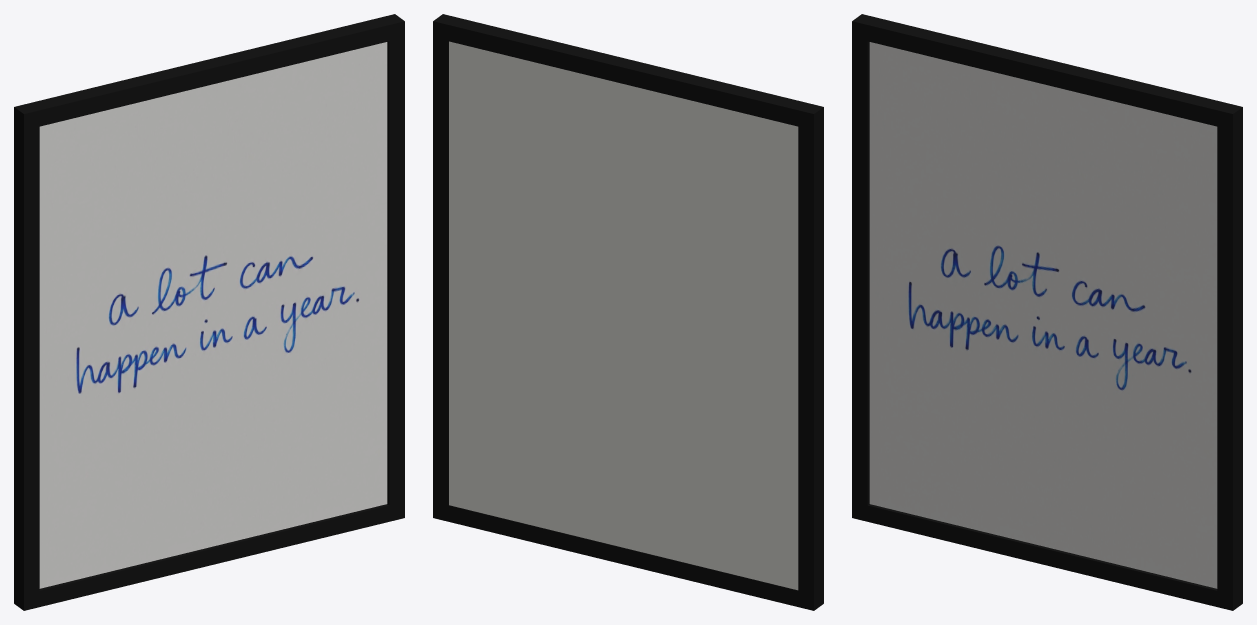
The model's file is framed-poster-a-lot-can-happen-in-a-year-inspirational-wall-art.glb.
3 renders of one model, left to right at view 1: azimuth 30°, elevation 25°; view 2: azimuth 150°, elevation 25°; view 3: azimuth 330°, elevation 25°, orthographic.
Visible parts, largest first — view 1: A Lot Can Happen in a Year – Motivationsposter; view 2: A Lot Can Happen in a Year – Motivationsposter; view 3: A Lot Can Happen in a Year – Motivationsposter.
Boxes of the visible parts, box(x1,y1,x2,y2) form: A Lot Can Happen in a Year – Motivationsposter: box(14, 14, 404, 610); A Lot Can Happen in a Year – Motivationsposter: box(433, 14, 823, 610); A Lot Can Happen in a Year – Motivationsposter: box(852, 14, 1242, 610).
Size of the model in its own units: 0.4891 by 0.6096 by 0.022.
1 material, 1 textured.
